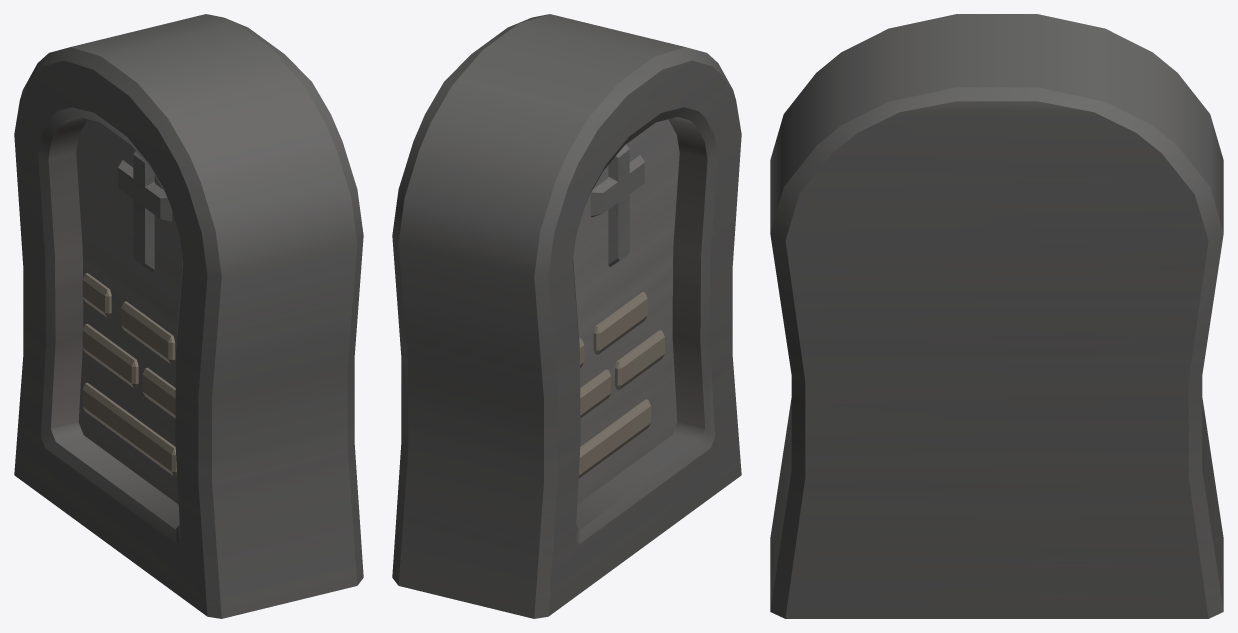
Rendered from Tombstone_3.glb.
3 renders of one model, left to right at view 1: azimuth 30°, elevation 25°; view 2: azimuth 150°, elevation 25°; view 3: azimuth 270°, elevation 25°, orthographic. The views are drawn at different scales.
Visible parts, largest first — view 1: Tombstone_3; view 2: Tombstone_3; view 3: Tombstone_3.
Part boxes in pixels (x1=…): Tombstone_3: x1=14, y1=14, x2=363, y2=618; Tombstone_3: x1=392, y1=14, x2=741, y2=618; Tombstone_3: x1=770, y1=14, x2=1223, y2=618.
Size of the model in its own units: 0.3056 by 0.8799 by 0.6893.
Materials: 1 (1 with a texture image).
